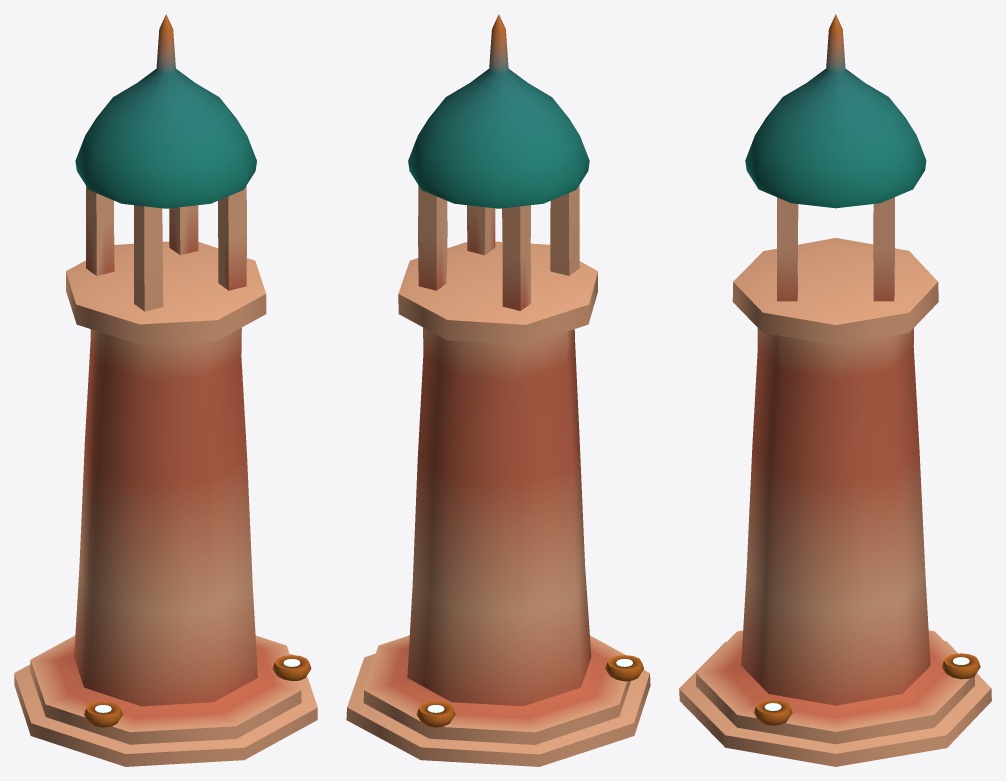
Rendered from tower.glb.
3 views of the same model, side by side, from view 1: azimuth 30°, elevation 25°; view 2: azimuth 150°, elevation 25°; view 3: azimuth 270°, elevation 25° (orthographic).
Parts seen in each view (by area): view 1: TorreMalha, socket_1, socket_2; view 2: TorreMalha, socket_0, socket_1; view 3: TorreMalha, socket_2, socket_0.
Part boxes in pixels (box(x1,y1,x2,y2)): TorreMalha: box(14, 14, 317, 766); socket_1: box(84, 701, 122, 727); socket_2: box(272, 655, 311, 680); TorreMalha: box(346, 14, 650, 766); socket_0: box(416, 701, 455, 727); socket_1: box(605, 655, 643, 681); TorreMalha: box(679, 14, 991, 766); socket_2: box(753, 699, 792, 725); socket_0: box(942, 653, 980, 679).
Size of the model in its own units: 11.2 by 27.2 by 11.22.
